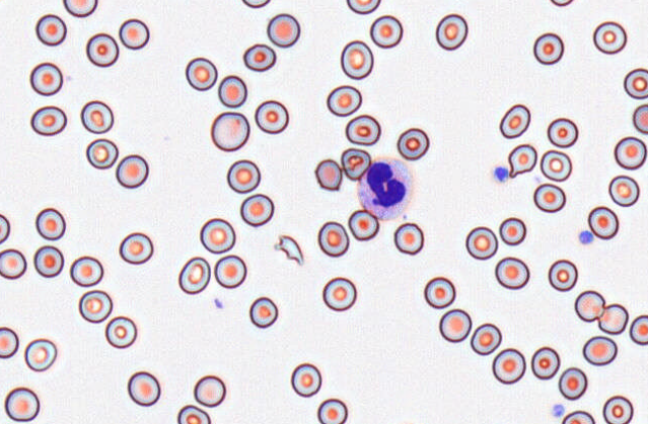GRAN: (354, 155, 415, 220)
PLT: (493, 165, 510, 184), (579, 230, 595, 246), (553, 403, 565, 417)
RBC: (210, 111, 249, 151), (199, 217, 235, 254), (4, 386, 40, 422), (340, 40, 373, 79), (491, 348, 526, 384), (435, 13, 468, 50), (178, 256, 210, 294), (322, 276, 356, 311), (254, 99, 288, 134), (85, 32, 119, 67), (226, 159, 260, 193), (78, 289, 112, 323), (369, 14, 403, 48), (266, 13, 300, 47), (29, 62, 63, 96), (494, 256, 529, 289), (127, 371, 160, 406), (592, 21, 627, 54), (317, 221, 349, 257), (326, 84, 362, 116), (30, 105, 67, 136), (213, 254, 246, 288), (438, 308, 471, 342), (240, 193, 274, 226), (465, 226, 498, 260), (115, 154, 148, 188), (613, 136, 646, 170), (104, 315, 137, 348), (396, 127, 429, 160), (24, 338, 57, 371), (80, 100, 113, 133), (69, 255, 103, 287), (185, 57, 217, 91), (119, 232, 153, 264), (587, 205, 619, 239), (345, 114, 380, 145), (290, 362, 321, 397), (582, 335, 617, 366), (499, 103, 530, 138), (193, 374, 225, 407), (347, 209, 379, 241), (423, 276, 455, 308), (540, 149, 572, 181), (340, 147, 371, 180), (470, 322, 501, 355), (85, 138, 118, 169), (35, 13, 66, 46), (608, 174, 639, 207), (533, 32, 564, 65), (574, 290, 605, 322), (393, 222, 424, 254), (33, 245, 64, 277), (546, 117, 578, 148), (217, 74, 247, 107), (530, 346, 560, 379), (35, 207, 65, 240), (558, 366, 587, 400), (118, 18, 149, 49), (533, 183, 566, 212), (242, 43, 276, 71), (598, 303, 628, 334), (249, 296, 278, 328), (548, 259, 577, 291), (314, 158, 342, 190), (602, 395, 633, 423), (0, 248, 26, 279), (316, 398, 347, 424), (623, 67, 648, 99), (498, 217, 526, 245), (177, 404, 211, 423), (62, 0, 98, 17), (0, 326, 19, 358), (629, 314, 647, 345), (561, 410, 595, 424), (346, 0, 380, 14), (632, 103, 647, 134), (0, 213, 10, 243), (241, 0, 270, 8), (549, 0, 574, 6)
Schistocyte: (509, 143, 538, 178), (276, 235, 306, 267)
